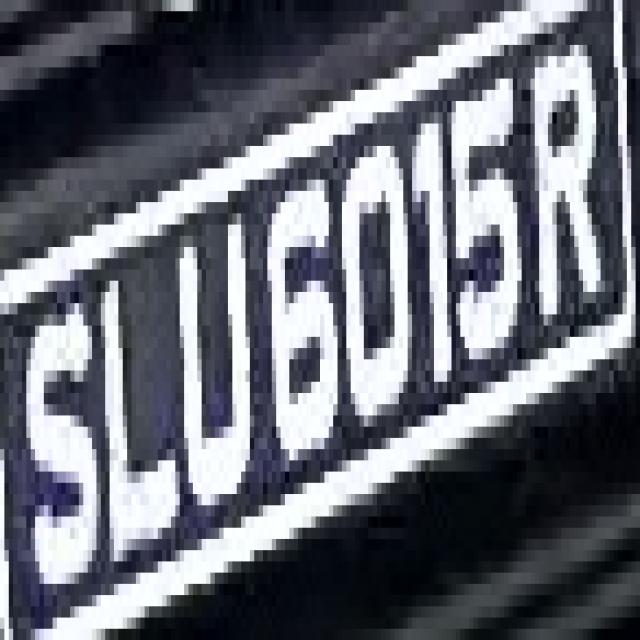0: (333, 123, 417, 438)
1: (403, 79, 456, 426)
5: (447, 45, 539, 382)
6: (263, 146, 338, 483)
L: (101, 225, 188, 550)
R: (526, 23, 605, 314)
S: (31, 292, 101, 606)
U: (167, 179, 263, 516)
